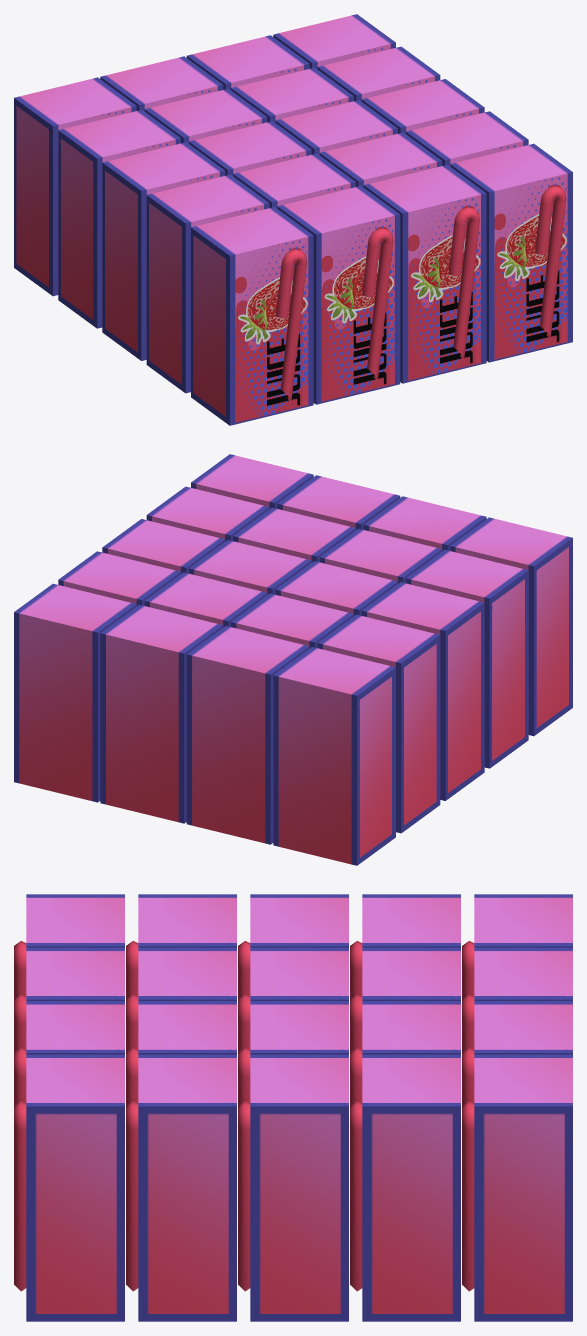
Rendered from Juice_Small_Strawberry_x20.fbx.
3 renders of one model, top to bottom at view 1: azimuth 30°, elevation 25°; view 2: azimuth 150°, elevation 25°; view 3: azimuth 270°, elevation 25°, orthographic. The views are drawn at different scales.
Parts seen in each view (by area): view 1: Juice_Small_Strawberry; view 2: Juice_Small_Strawberry; view 3: Juice_Small_Strawberry.
Part boxes in pixels (x1,y1,x2,y2): Juice_Small_Strawberry: [14, 14, 572, 425]; Juice_Small_Strawberry: [14, 454, 572, 865]; Juice_Small_Strawberry: [14, 894, 572, 1321].
Size of the model in its own units: 29.82 by 14.12 by 33.23.
1 material, 1 textured.
